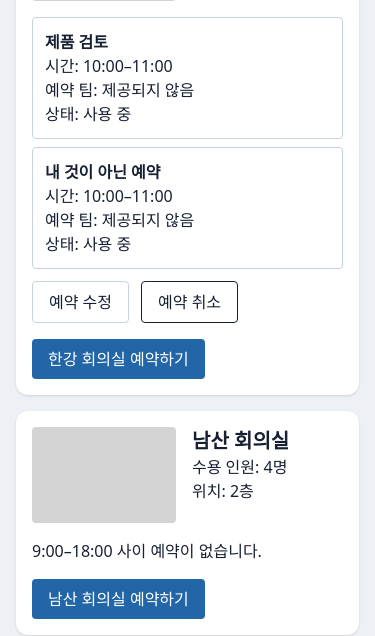
it: meeting room reservation cancellation › closes confirmation with Escape without cancelling and never exposes a non-owner action
The image size is (375, 636).
(page scrolled)
Step 1. Click the button with aria-label "예약 취소: 제품 검토" → (190, 302), box left=141, top=281, right=238, bottom=323
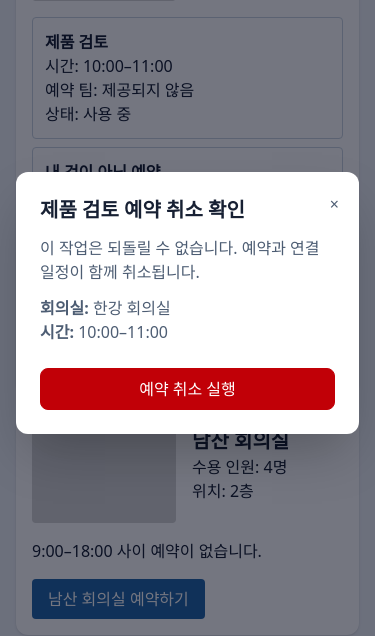
Expected: the dialog is shown
Step 2. Press Esc in the dialog, box left=16, top=172, right=359, bottom=434
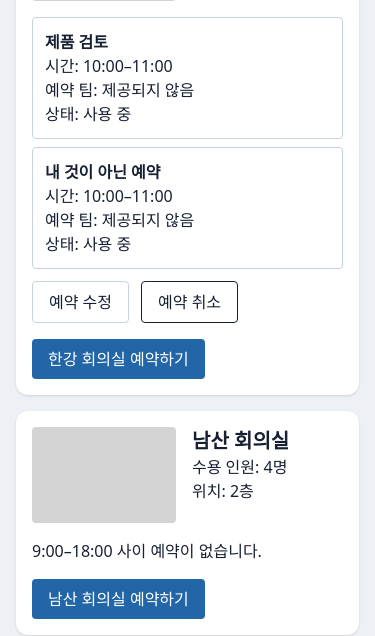
Expected: the dialog is gone
